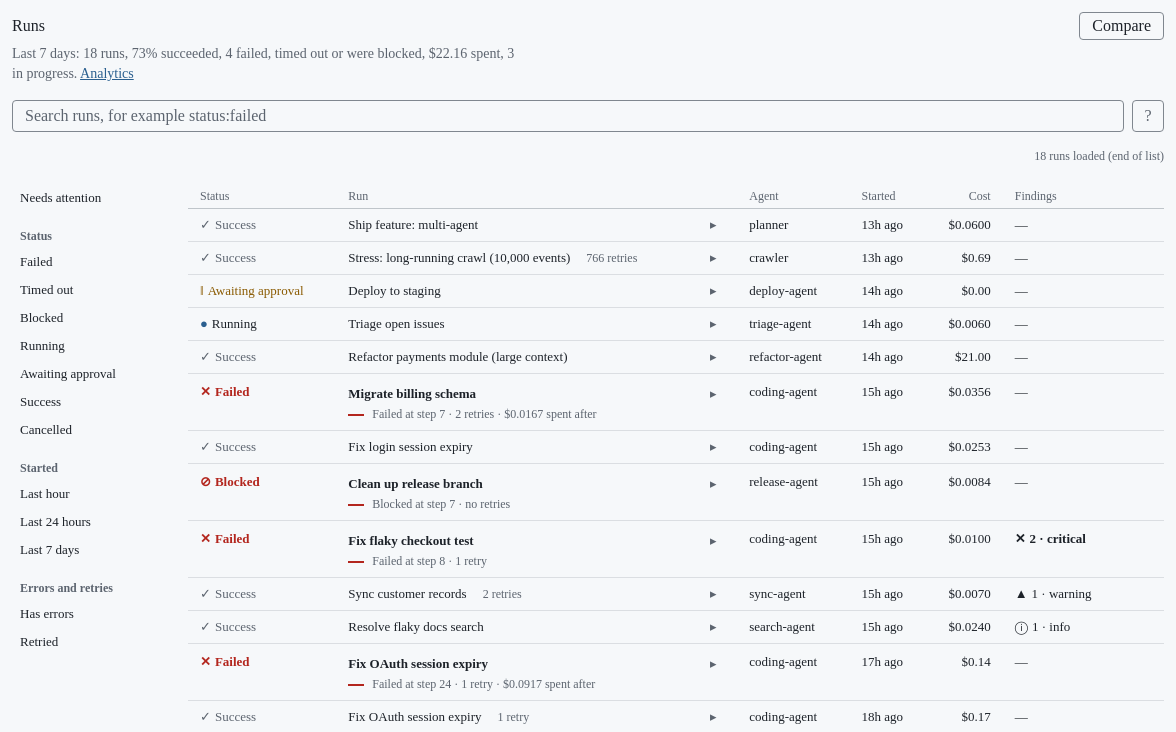
Test: Needs attention › asks for failed, timed-out and blocked runs together and toggles off again
Click the button "Needs attention".
click(92, 198)  # box [12,184,172,212]
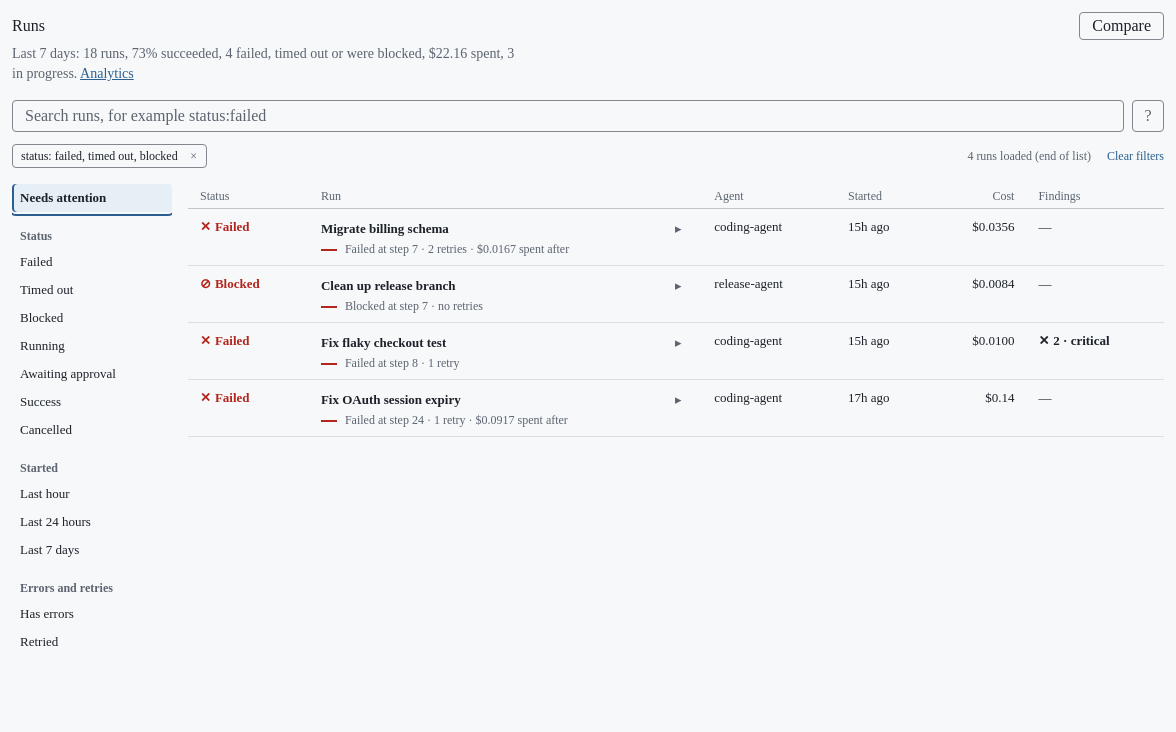
Expected: the number of elements with test id "failure-line" is 4, [321,242,569,256]; [321,299,483,313]; [321,356,460,370]; [321,413,568,427]
Expected: the button "Needs attention" is pressed
Click the button "Needs attention".
click(92, 198)  # box [12,184,172,212]
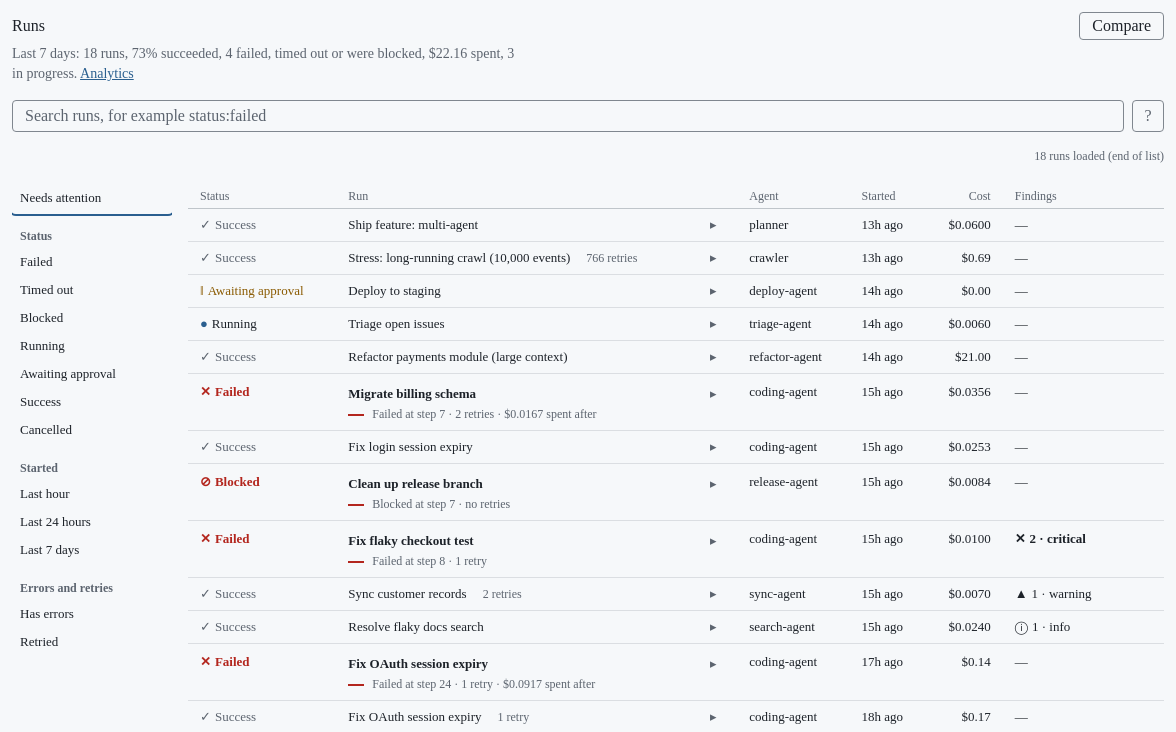
Expected: the number of rows is 19
